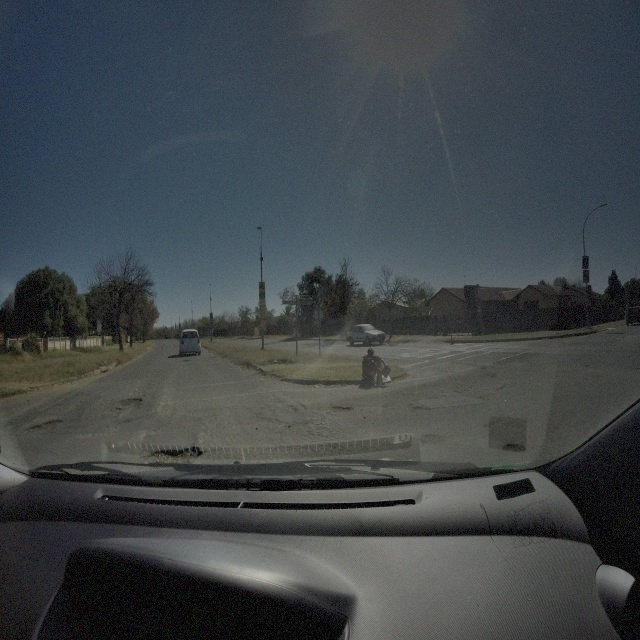pothole: (149, 443, 205, 468), (24, 416, 64, 433), (417, 432, 445, 447), (118, 396, 142, 409), (502, 442, 527, 454), (332, 405, 352, 413), (411, 405, 431, 413)
